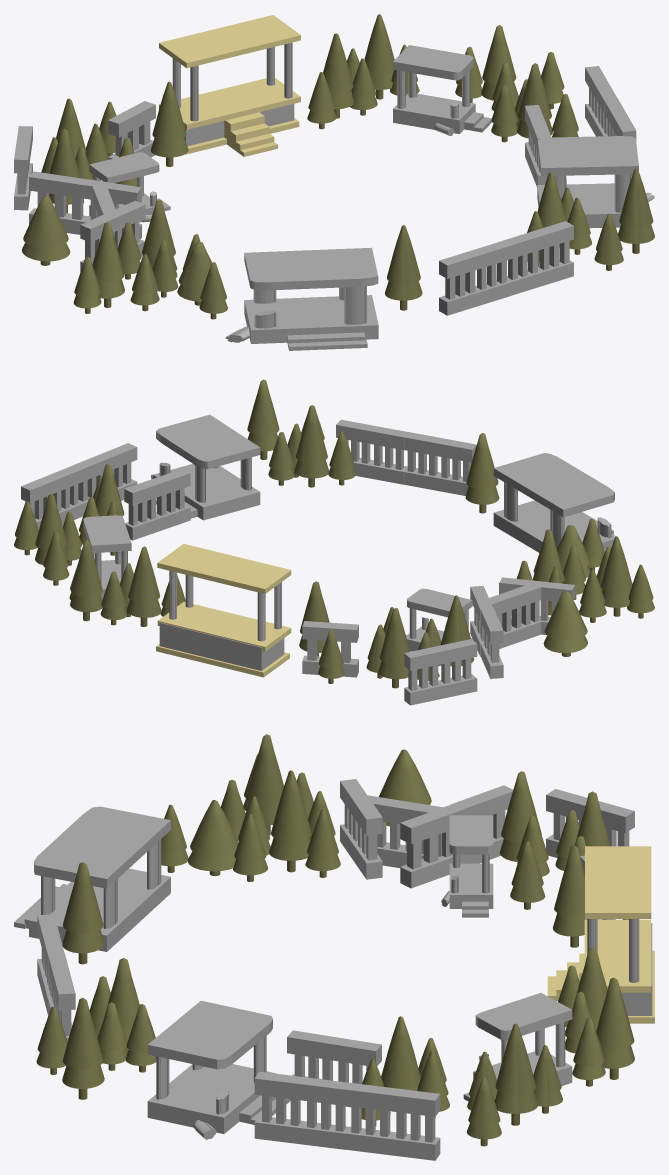
3 renders of one model, top to bottom at view 1: azimuth 30°, elevation 25°; view 2: azimuth 150°, elevation 25°; view 3: azimuth 270°, elevation 25°, orthographic. The views are drawn at different scales.
Visible parts, largest first — view 1: Box098, Box096, Box061, Box056, Box060, Box010, Box012, Box054, Cone055, Box009, Cone081, Cone077 (+53 smaller); view 2: Box098, Box061, Box056, Box059, Box060, Box054, Box096, Box012, Cone055, Cone077, Cone010, Cone027 (+54 smaller); view 3: Box098, Box056, Box054, Box061, Box096, Box060, Box012, Cone081, Cone077, Cone068, Box009, Cone037 (+58 smaller).
Part boxes in pixels (x1,y1,x2,y2): Box098: (244, 247, 378, 290); Box096: (244, 295, 378, 343); Box061: (159, 15, 300, 68); Box056: (537, 136, 638, 176); Box060: (159, 78, 300, 129); Box010: (393, 93, 475, 133); Box012: (393, 45, 473, 80); Box054: (537, 183, 621, 228); Cone055: (23, 196, 68, 248); Box009: (89, 152, 159, 182); Cone081: (387, 225, 420, 284); Cone077: (619, 168, 653, 228); Box098: (493, 453, 614, 517); Box061: (157, 543, 291, 593); Box056: (156, 414, 260, 469); Box059: (159, 622, 284, 670); Box060: (157, 601, 291, 651); Box054: (153, 464, 260, 520); Box096: (493, 500, 615, 552); Box012: (83, 515, 131, 552); Cone055: (544, 591, 587, 640); Cone077: (247, 379, 279, 435); Cone010: (70, 540, 102, 596); Cone027: (296, 407, 327, 463); Box098: (34, 806, 170, 888); Box056: (147, 1000, 272, 1069); Box054: (147, 1064, 276, 1133); Box061: (585, 846, 651, 918); Box096: (29, 868, 170, 951); Box060: (584, 919, 650, 992); Box012: (475, 993, 572, 1040); Cone081: (63, 862, 103, 933); Cone077: (63, 998, 103, 1069); Cone068: (495, 1023, 535, 1094); Box009: (449, 815, 493, 854); Cone037: (381, 1016, 420, 1087).
Size of the model in its own units: 331 by 51.3 by 257.
3 materials, 3 textured.
